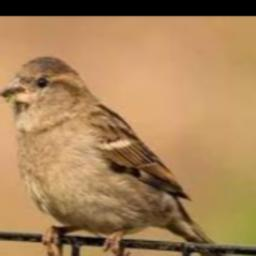Sparrow: (0, 57, 249, 256)
